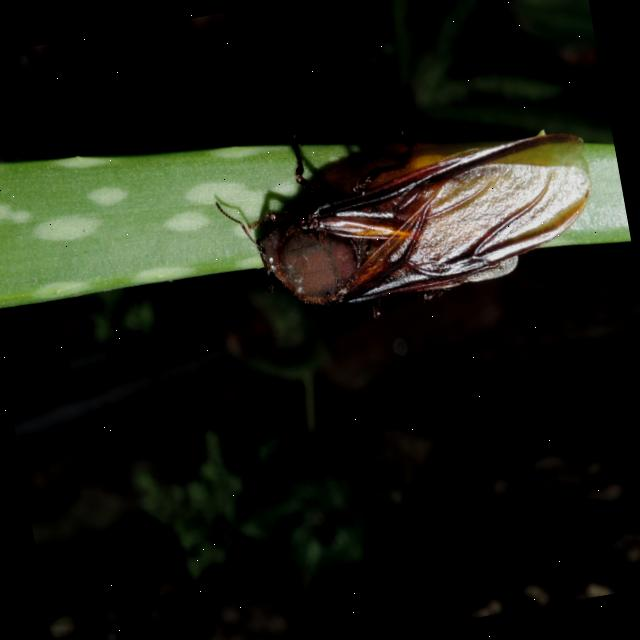Alive-Female-Alate: (206, 92, 608, 344)
